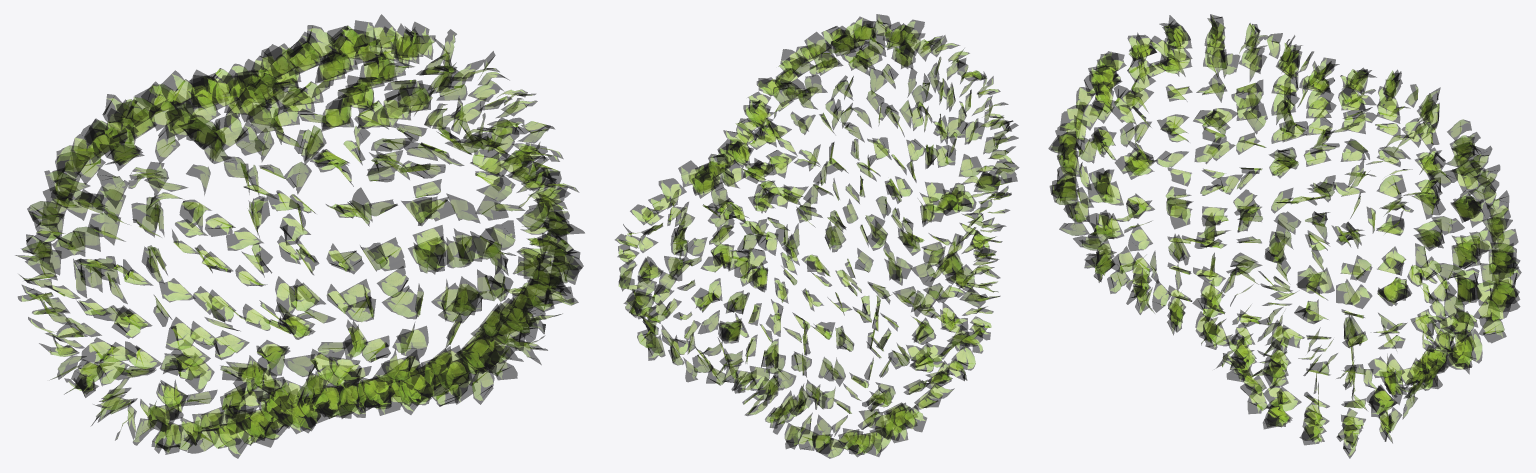
The model's file is leaves.obj.
3 renders of one model, left to right at view 1: azimuth 30°, elevation 25°; view 2: azimuth 150°, elevation 25°; view 3: azimuth 270°, elevation 25°, orthographic. The views are drawn at different scales.
Parts seen in each view (by area): view 1: Hair1; view 2: Hair1; view 3: Hair1.
Part boxes in pixels (left/top/right/bottom): Hair1: left=15, top=14, right=584, bottom=458; Hair1: left=615, top=14, right=1019, bottom=458; Hair1: left=1048, top=14, right=1521, bottom=458.
Bounding box in the file's own units: 0.5409 × 0.4907 × 0.5465.
